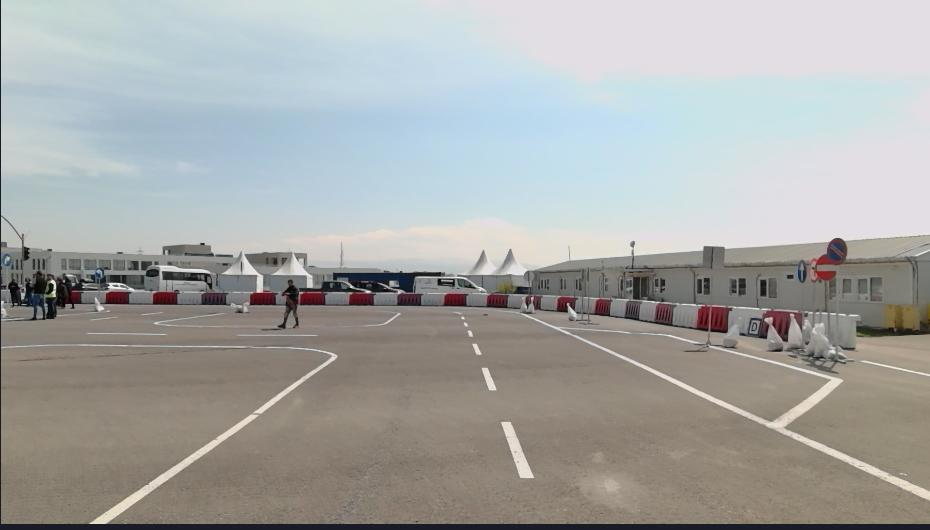nesne: (0, 306, 930, 528), (456, 308, 930, 525), (84, 307, 553, 526), (513, 310, 928, 500), (0, 342, 341, 524), (295, 290, 857, 347), (558, 324, 843, 426), (72, 289, 284, 306), (802, 310, 860, 347), (499, 421, 534, 480), (143, 263, 215, 291), (412, 273, 488, 295), (804, 323, 843, 359), (729, 306, 768, 337), (766, 308, 805, 339), (276, 278, 298, 326), (28, 267, 46, 321), (698, 304, 730, 333), (672, 302, 698, 328), (765, 317, 785, 350), (785, 311, 803, 347), (651, 299, 675, 325), (46, 272, 58, 317), (62, 272, 75, 309), (85, 330, 165, 336), (322, 290, 353, 305), (637, 299, 656, 322), (176, 289, 206, 303), (129, 290, 158, 304), (609, 297, 629, 317), (152, 290, 180, 304), (298, 290, 326, 304), (421, 290, 447, 305), (81, 288, 108, 302), (226, 290, 253, 304), (396, 291, 421, 306), (480, 366, 495, 391), (574, 297, 597, 313), (103, 290, 133, 302), (202, 290, 226, 305), (626, 299, 643, 320), (487, 292, 509, 308), (348, 291, 375, 304), (556, 295, 576, 312), (249, 291, 276, 303), (374, 292, 401, 304), (464, 292, 487, 306), (538, 295, 558, 311), (442, 292, 466, 304), (506, 294, 528, 307), (594, 298, 610, 315), (236, 333, 318, 336), (525, 294, 540, 309), (565, 303, 576, 320), (471, 342, 482, 356), (73, 290, 83, 304), (465, 330, 474, 336), (463, 321, 469, 327), (461, 315, 465, 319)
